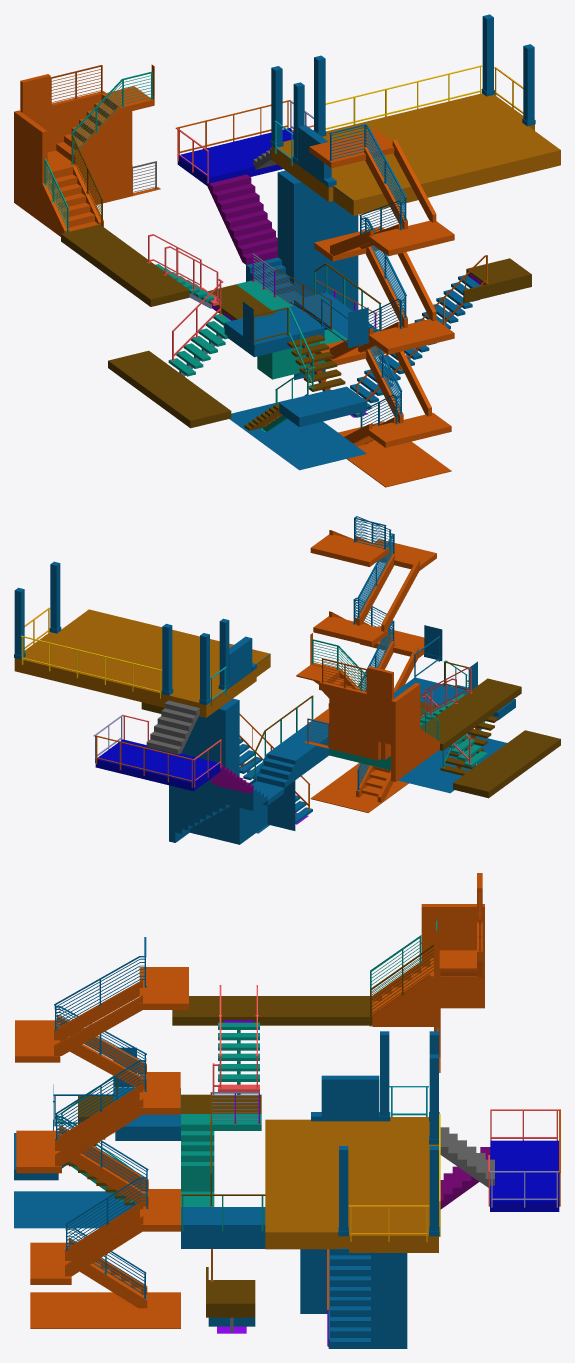
The model's file is funhouse1.obj.
3 renders of one model, top to bottom at view 1: azimuth 30°, elevation 25°; view 2: azimuth 150°, elevation 25°; view 3: azimuth 270°, elevation 25°, orthographic. The views are drawn at different scales.
Parts seen in each view (by area): view 1: Mesh401 Group237 Model, Mesh409 Group244 Model, Mesh478 Group305 Model, Mesh209 Group191 Model, Mesh208 Group190 Model, Mesh91 Group87 Group86 Model, Mesh402 Group238 Model, Mesh452 Group284 Model, Mesh407 Group243 Model, Mesh215 Group197 Group192 Model, Mesh22 Group24 Model, Mesh389 Group229 Model (+27 smaller); view 2: Mesh401 Group237 Model, Mesh409 Group244 Model, Mesh478 Group305 Model, Mesh407 Group243 Model, Mesh208 Group190 Model, Mesh209 Group191 Model, Mesh408 Group246 Group245 Group244 Model, Mesh215 Group197 Group192 Model, Mesh404 Group240 Model, Mesh91 Group87 Group86 Model, Mesh452 Group284 Model, Mesh239 Group213 Group192 Model (+18 smaller); view 3: Mesh401 Group237 Model, Mesh409 Group244 Model, Mesh478 Group305 Model, Mesh209 Group191 Model, Mesh215 Group197 Group192 Model, Mesh407 Group243 Model, Mesh535 Model, Mesh22 Group24 Model, Mesh91 Group87 Group86 Model, Mesh406 Group242 Model, Mesh239 Group213 Group192 Model, Mesh389 Group229 Model (+29 smaller).
Boxes of the visible parts, x1,y1,x2,y2 form: Mesh401 Group237 Model: [271, 93, 560, 215]; Mesh409 Group244 Model: [246, 170, 358, 310]; Mesh478 Group305 Model: [14, 74, 105, 236]; Mesh209 Group191 Model: [61, 224, 189, 306]; Mesh208 Group190 Model: [108, 350, 231, 428]; Mesh91 Group87 Group86 Model: [230, 399, 366, 469]; Mesh402 Group238 Model: [207, 174, 277, 264]; Mesh452 Group284 Model: [76, 111, 132, 204]; Mesh407 Group243 Model: [177, 128, 293, 186]; Mesh215 Group197 Group192 Model: [338, 421, 451, 487]; Mesh22 Group24 Model: [236, 280, 347, 379]; Mesh389 Group229 Model: [463, 258, 531, 303]; Mesh401 Group237 Model: [14, 609, 270, 717]; Mesh409 Group244 Model: [169, 698, 284, 844]; Mesh478 Group305 Model: [319, 666, 439, 781]; Mesh407 Group243 Model: [95, 739, 220, 791]; Mesh208 Group190 Model: [453, 730, 560, 798]; Mesh209 Group191 Model: [420, 678, 521, 750]; Mesh408 Group246 Group245 Group244 Model: [257, 719, 328, 787]; Mesh215 Group197 Group192 Model: [310, 763, 408, 812]; Mesh404 Group240 Model: [146, 700, 199, 754]; Mesh91 Group87 Group86 Model: [398, 734, 506, 792]; Mesh452 Group284 Model: [329, 699, 380, 760]; Mesh239 Group213 Group192 Model: [310, 534, 388, 566]; Mesh401 Group237 Model: [265, 1117, 438, 1252]; Mesh409 Group244 Model: [330, 1248, 407, 1348]; Mesh478 Group305 Model: [372, 873, 484, 1026]; Mesh209 Group191 Model: [172, 996, 372, 1025]; Mesh215 Group197 Group192 Model: [30, 1292, 180, 1328]; Mesh407 Group243 Model: [490, 1140, 559, 1211]; Mesh535 Model: [181, 1224, 329, 1348]; Mesh22 Group24 Model: [181, 1114, 261, 1206]; Mesh91 Group87 Group86 Model: [14, 1191, 137, 1227]; Mesh406 Group242 Model: [321, 1075, 379, 1121]; Mesh239 Group213 Group192 Model: [139, 967, 188, 1009]; Mesh389 Group229 Model: [206, 1267, 255, 1317].
Bounding box in the file's own units: 638 × 424 × 586.
